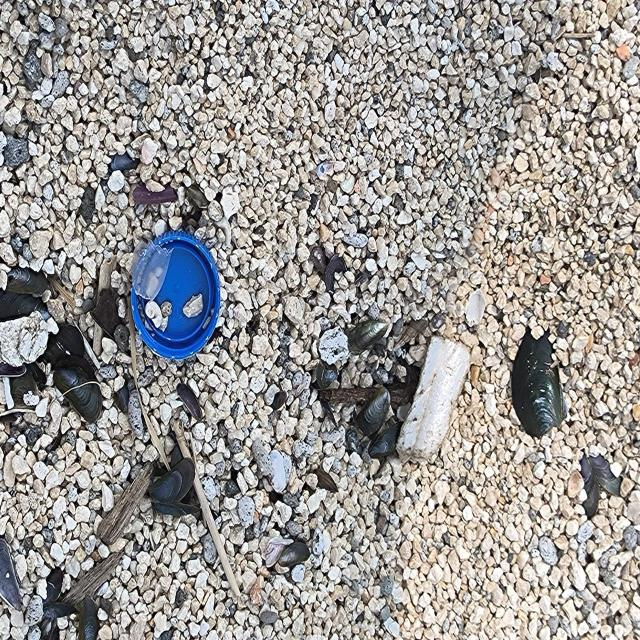plastic_waste: (131, 229, 223, 361)
styrofoam_waste: (395, 335, 473, 466)
